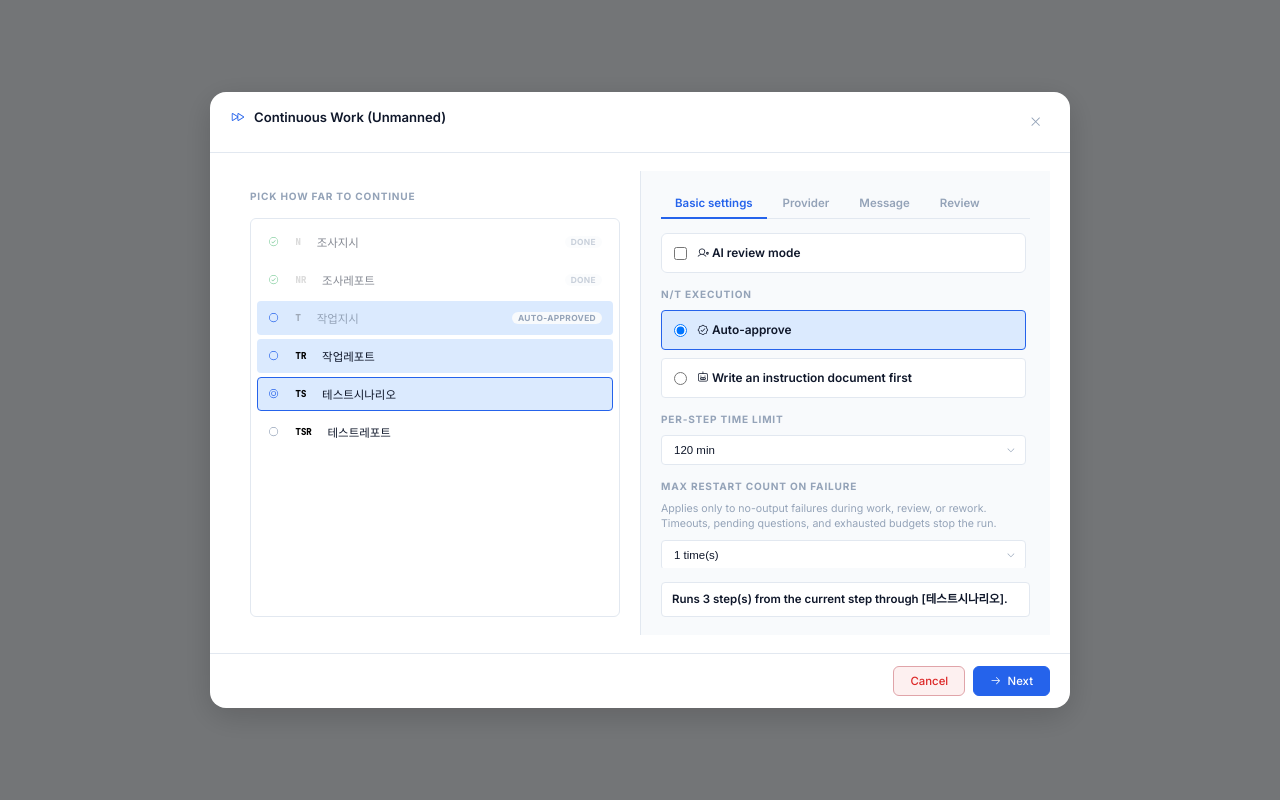
Test: ContinuousWorkDialog [검수] 탭 화면 (0414 T0012 작업 1) › 검수자 셀렉트는 프로바이더 목록을 보여주고, 기본값은 유효 체인의 첫 항목이다
What coordinates should you click on to do the following:
click the button with class "cwd-tab" showing "Review"
I would click on:
 (960, 204)
Its box is [926, 189, 994, 219].
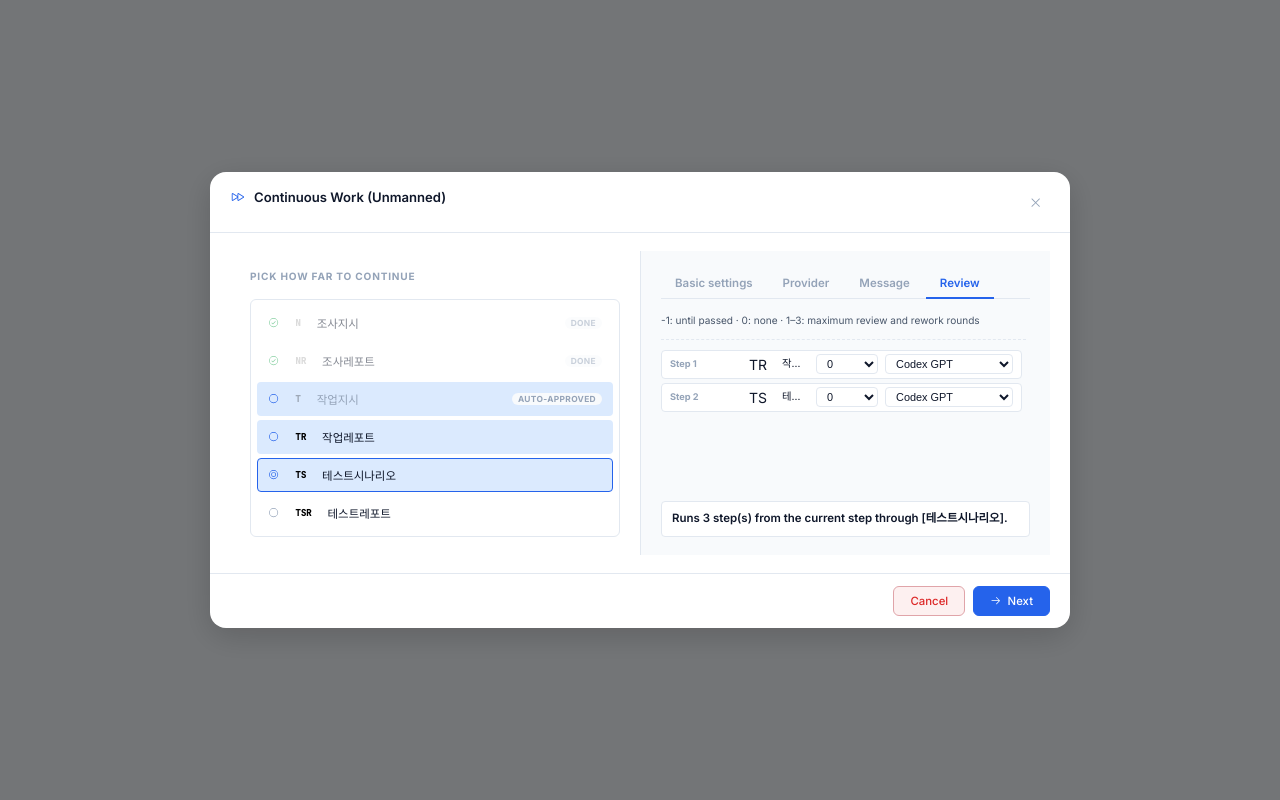
Now the dropdown with class "cwd-review-reviewer-select" shows "Codex GPT", box [885, 354, 1013, 374]
